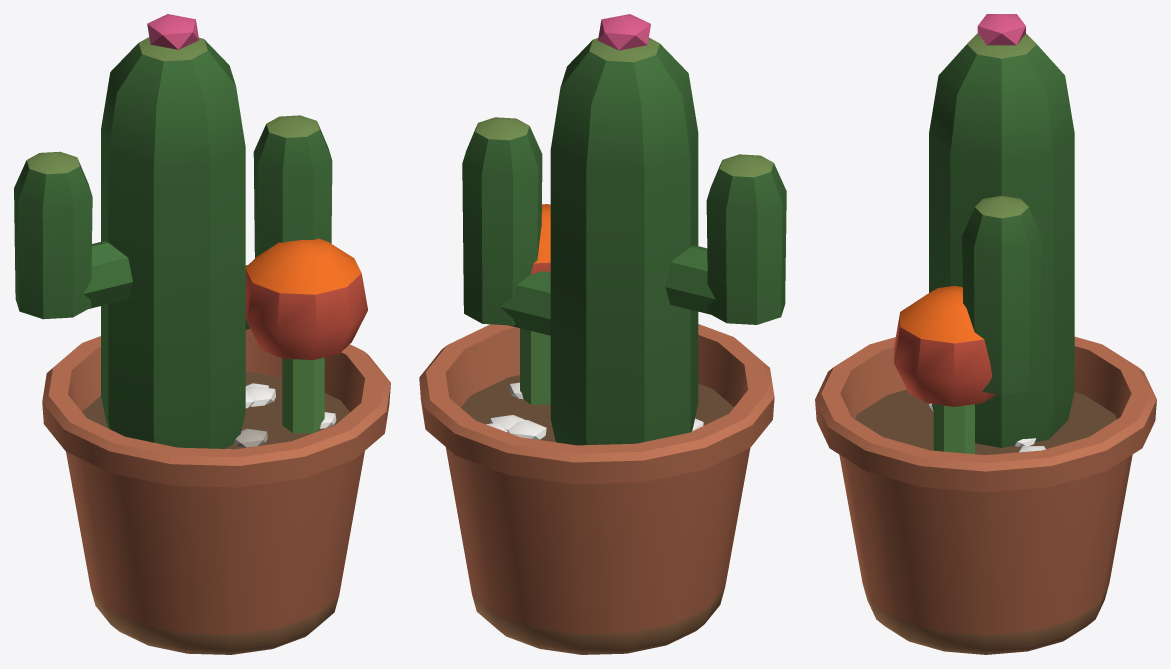
File: SC_Home_Potted_Plant_Cactus.gltf
3 renders of one model, left to right at view 1: azimuth 30°, elevation 25°; view 2: azimuth 150°, elevation 25°; view 3: azimuth 270°, elevation 25°, orthographic. The views are drawn at different scales.
Parts seen in each view (by area): view 1: SC_Home_Potted_Plant_Cactus; view 2: SC_Home_Potted_Plant_Cactus; view 3: SC_Home_Potted_Plant_Cactus.
Part boxes in pixels (<box>): SC_Home_Potted_Plant_Cactus: <box>14,14,390,654</box>; SC_Home_Potted_Plant_Cactus: <box>419,14,786,654</box>; SC_Home_Potted_Plant_Cactus: <box>815,14,1156,654</box>.
Bounding box in the file's own units: 0.243 × 0.4028 × 0.216.
Materials: 1 (1 with a texture image).
